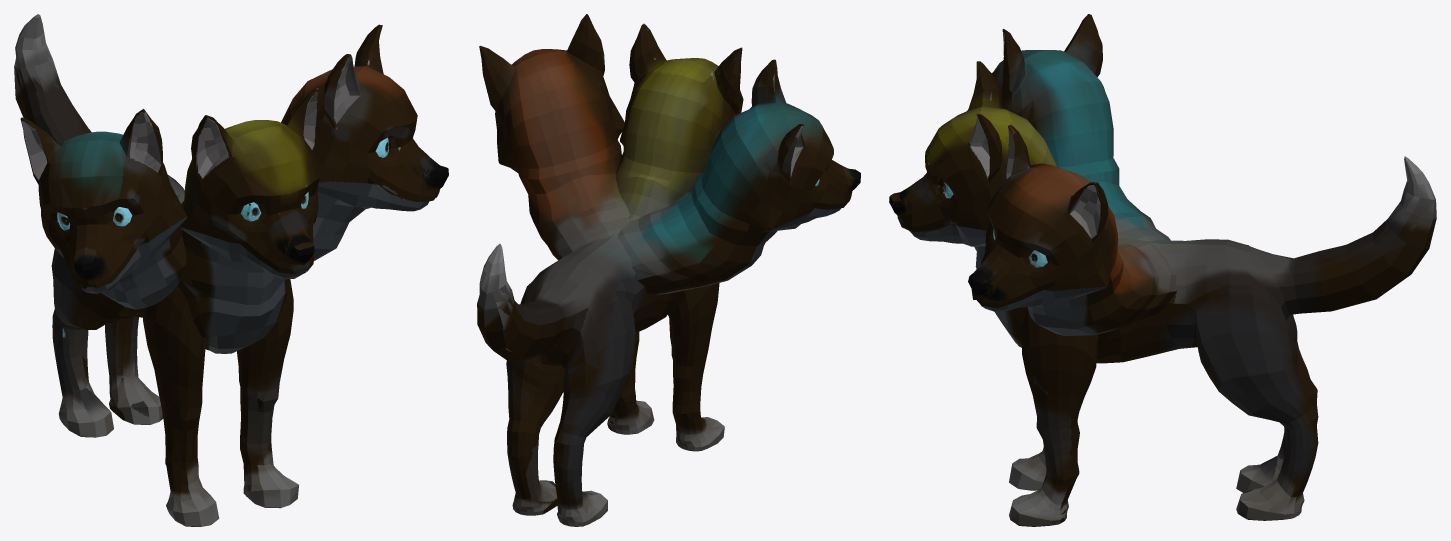
Rendered from 3HeadDoggoColor.fbx.
The picture shows the model from 3 angles, left to right: view 1: azimuth 30°, elevation 25°; view 2: azimuth 150°, elevation 25°; view 3: azimuth 270°, elevation 25°; orthographic projection. The views are drawn at different scales.
Parts seen in each view (by area): view 1: Dog; view 2: Dog; view 3: Dog.
Part boxes in pixels (x1,y1,x2,y2): Dog: (14, 14, 448, 526); Dog: (477, 14, 860, 526); Dog: (889, 14, 1436, 526).
Size of the model in its own units: 92.31 by 103 by 121.
Materials: 1 (1 with a texture image).
